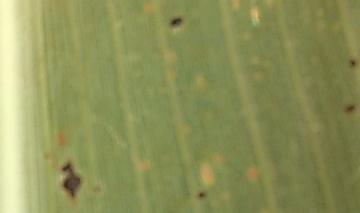tarspot: (62, 162, 82, 198), (170, 17, 183, 28), (345, 103, 357, 113), (197, 190, 207, 199), (348, 58, 357, 68)
